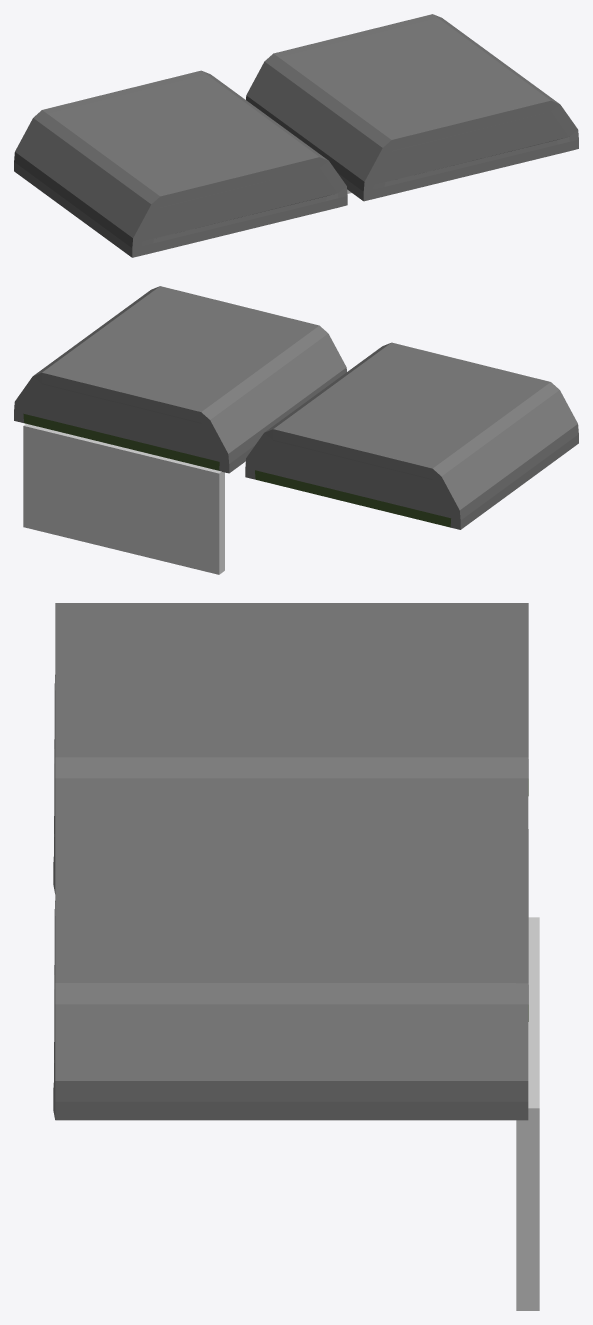
The model's file is Techos pared.fbx.
The picture shows the model from 3 angles, top to bottom: view 1: azimuth 30°, elevation 25°; view 2: azimuth 150°, elevation 25°; view 3: azimuth 270°, elevation 25°; orthographic projection. The views are drawn at different scales.
Parts seen in each view (by area): view 1: Techo Invernadero, Techo Morgue; view 2: Techo Invernadero, Techo Morgue, Pared Morgue; view 3: Techo Morgue, Techo Invernadero, Pared Morgue.
Boxes of the visible parts, <box> form: Techo Invernadero: <box>14,70,347,257</box>; Techo Morgue: <box>246,14,578,201</box>; Techo Invernadero: <box>245,342,578,529</box>; Techo Morgue: <box>14,286,346,473</box>; Pared Morgue: <box>23,423,224,574</box>; Techo Morgue: <box>53,829,528,1120</box>; Techo Invernadero: <box>53,603,528,893</box>; Pared Morgue: <box>516,917,539,1310</box>.
Size of the model in its own units: 8839 by 2955 by 4169.
